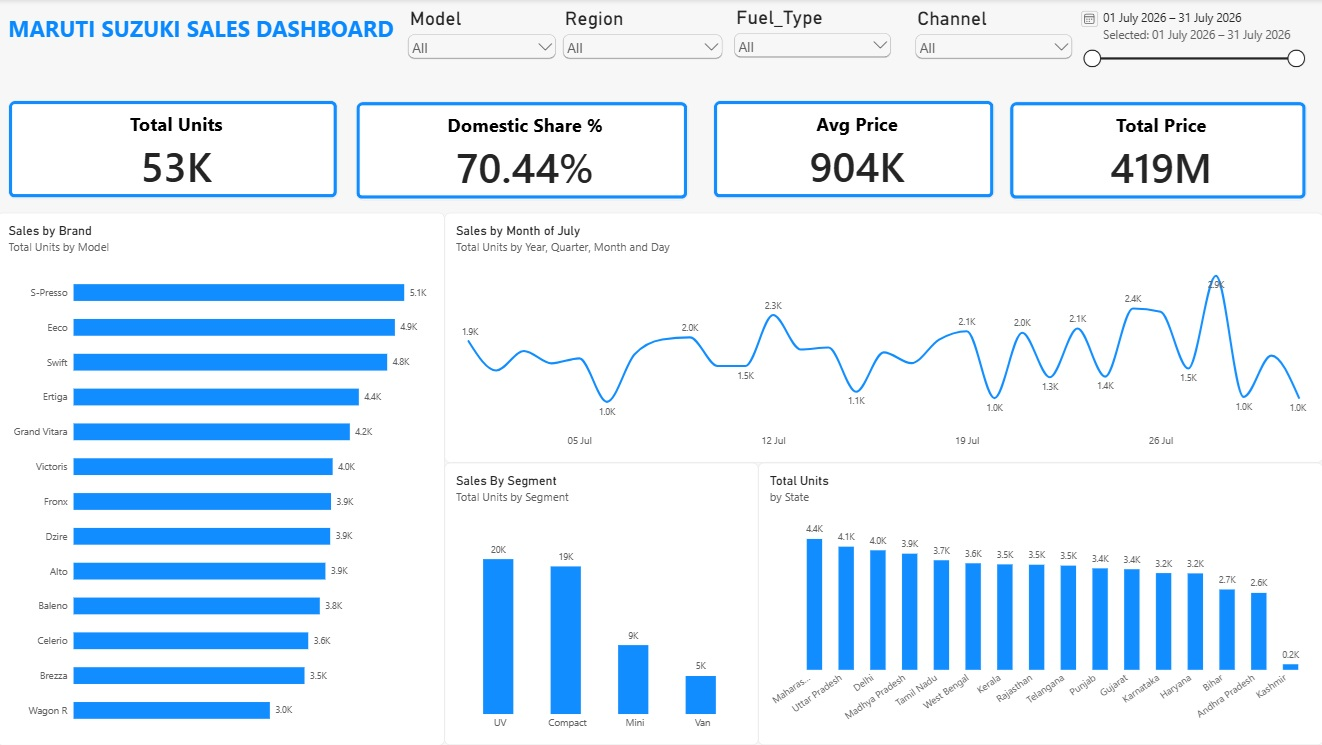

What the dashboard file says about the page in this screenshot:
{"tool":"powerbi","page":{"name":"Sales Dashboard","canvas":[1920,1080],"ordinal":0},"visuals":[{"type":"barChart","title":"Sales by Brand","fields":{"Category":["Maruti_Clean_Data.Model"],"Y":["Maruti_Clean_Data.Total Units"]},"box":[0,309.1,647.9,770.9],"z":0},{"type":"columnChart","title":"Sales By Segment","fields":{"Category":["Maruti_Clean_Data.Segment"],"Y":["Maruti_Clean_Data.Total Units"]},"box":[647.9,671.4,454.2,409],"z":1000},{"type":"lineChart","title":"Sales by Month of July","fields":{"Category":["Maruti_Clean_Data.Sale_Date.Variation.Date Hierarchy.Year","Maruti_Clean_Data.Sale_Date.Variation.Date Hierarchy.Quarter","Maruti_Clean_Data.Sale_Date.Variation.Date Hierarchy.Month","Maruti_Clean_Data.Sale_Date.Variation.Date Hierarchy.Day"],"Y":["Maruti_Clean_Data.Total Units"]},"box":[647.9,309.5,1272.2,361.9],"z":2000},{"type":"cardVisual","fields":{"Data":["Maruti_Clean_Data.Total Units"]},"box":[16.3,146.6,477.8,143],"z":3000},{"type":"cardVisual","fields":{"Data":["Maruti_Clean_Data.Domestic Share %"]},"box":[519.4,148.4,481.4,143],"z":4000},{"type":"cardVisual","fields":{"Data":["Maruti_Clean_Data.Avg Price"]},"box":[1036.9,146.6,407.2,143],"z":6000},{"type":"slicer","fields":{"Values":["Maruti_Clean_Data.Model"]},"box":[589.9,12.7,224.4,103.2],"z":7000},{"type":"slicer","fields":{"Values":["Maruti_Clean_Data.Region"]},"box":[814.3,12.7,240.7,103.2],"z":8000},{"type":"slicer","fields":{"Values":["Maruti_Clean_Data.Fuel_Type"]},"box":[1062.3,10.9,237.1,103.2],"z":9000},{"type":"slicer","fields":{"Values":["Maruti_Clean_Data.Channel"]},"box":[1324.7,12.7,237.1,103.2],"z":10000},{"type":"slicer","fields":{"Values":["Maruti_Clean_Data.Sale_Date"]},"box":[1561.7,10.9,334.8,103.2],"z":11000},{"type":"textbox","box":[16.3,19.9,573.7,52.5],"z":12000},{"type":"clusteredColumnChart","fields":{"Category":["Maruti_Clean_Data.State"],"Y":["Maruti_Clean_Data.Total Units"]},"box":[1102.1,671.4,818,409],"z":13000},{"type":"cardVisual","title":"Sales by Region","fields":{"Data":["Maruti_Clean_Data.Total Ex Showroom Price by Region"]},"box":[1465.8,148.4,430.7,143],"z":13002}]}

Visuals, with their boxes in screenshot pixels (x1, y1, x2, y2), scaled from the page's 1920x1080 canvas onto the 1322x745 screenshot:
"Sales by Brand" barChart: left=0, top=213, right=446, bottom=744
"Sales By Segment" columnChart: left=446, top=463, right=759, bottom=744
"Sales by Month of July" lineChart: left=446, top=213, right=1321, bottom=463
cardVisual - Maruti_Clean_Data.Total Units: left=11, top=101, right=340, bottom=200
cardVisual - Maruti_Clean_Data.Domestic Share %: left=358, top=102, right=689, bottom=201
cardVisual - Maruti_Clean_Data.Avg Price: left=714, top=101, right=994, bottom=200
slicer - Maruti_Clean_Data.Model: left=406, top=9, right=561, bottom=80
slicer - Maruti_Clean_Data.Region: left=561, top=9, right=726, bottom=80
slicer - Maruti_Clean_Data.Fuel_Type: left=731, top=8, right=895, bottom=79
slicer - Maruti_Clean_Data.Channel: left=912, top=9, right=1075, bottom=80
slicer - Maruti_Clean_Data.Sale_Date: left=1075, top=8, right=1306, bottom=79
textbox: left=11, top=14, right=406, bottom=50
clusteredColumnChart - Maruti_Clean_Data.State x Maruti_Clean_Data.Total Units: left=759, top=463, right=1321, bottom=744
"Sales by Region" cardVisual: left=1009, top=102, right=1306, bottom=201
